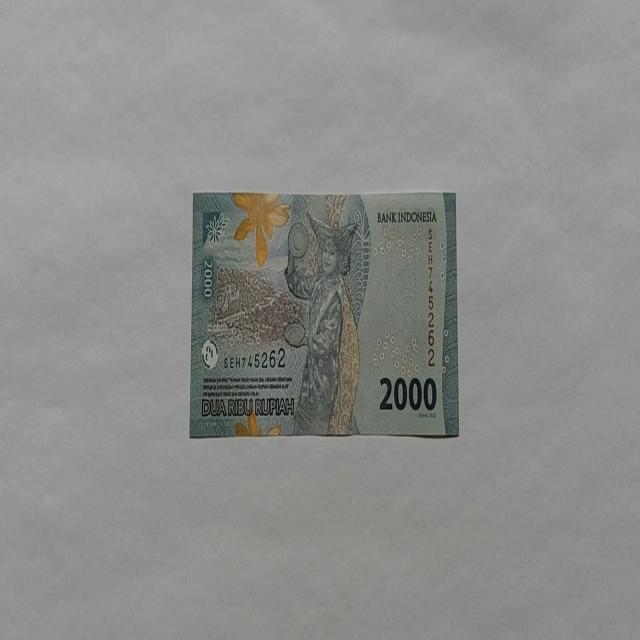dua ribu rupiah: (188, 189, 460, 439), (282, 210, 360, 436), (231, 190, 291, 268)
